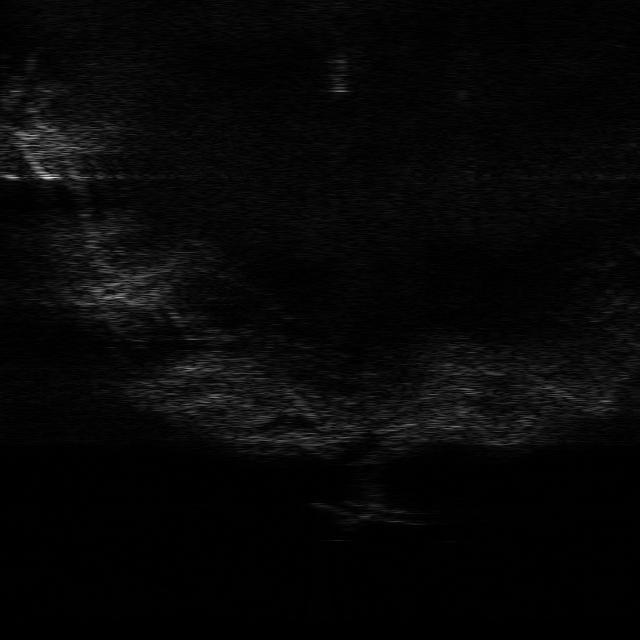plane: (313, 499, 427, 528)
